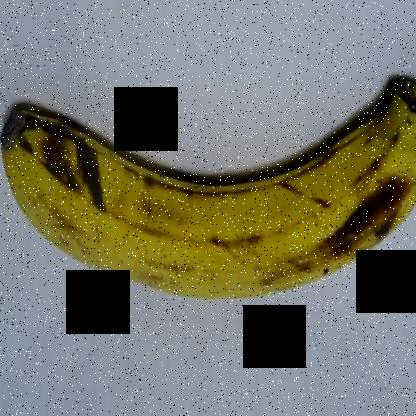overripe: (1, 57, 415, 322)
